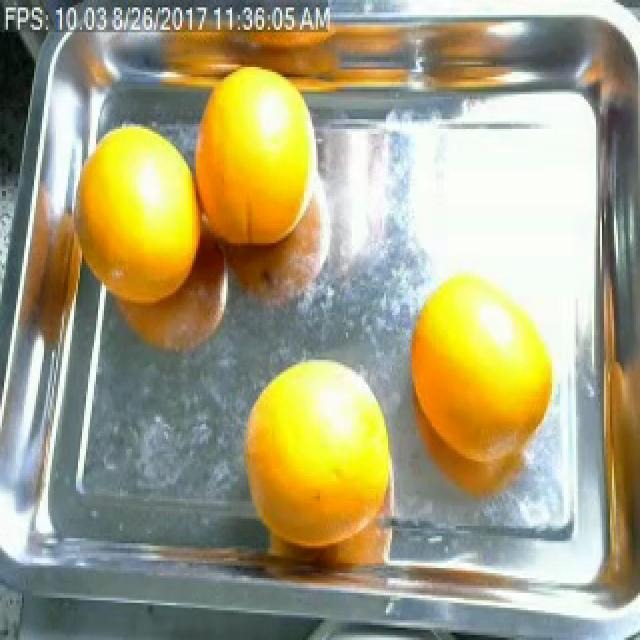Fruit: (224, 342, 406, 556)
